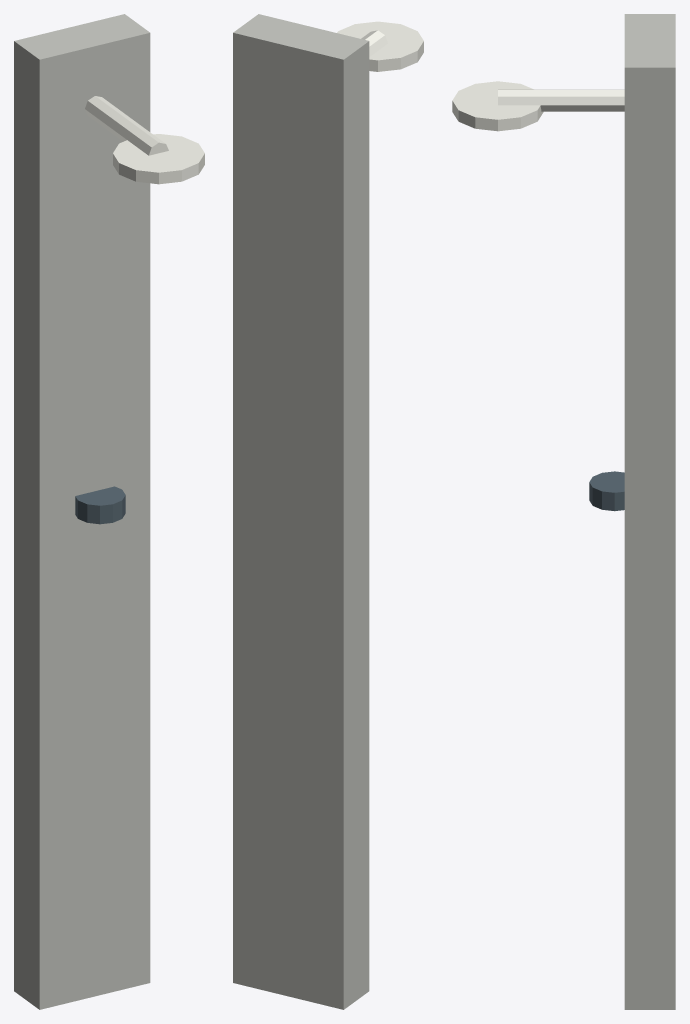
File: football-soccer-club-grounds-shower-column-2aeb12a4.glb
3 views of the same model, side by side, from view 1: azimuth 30°, elevation 25°; view 2: azimuth 150°, elevation 25°; view 3: azimuth 270°, elevation 25° (orthographic).
Parts seen in each view (by area): view 1: shower-column; view 2: shower-column; view 3: shower-column.
Part boxes in pixels (bbox=[...]): shower-column: bbox=[14, 14, 204, 1009]; shower-column: bbox=[233, 14, 423, 1009]; shower-column: bbox=[452, 14, 675, 1009].
Bounding box in the file's own units: 0.25 × 2.05 × 0.4401.
